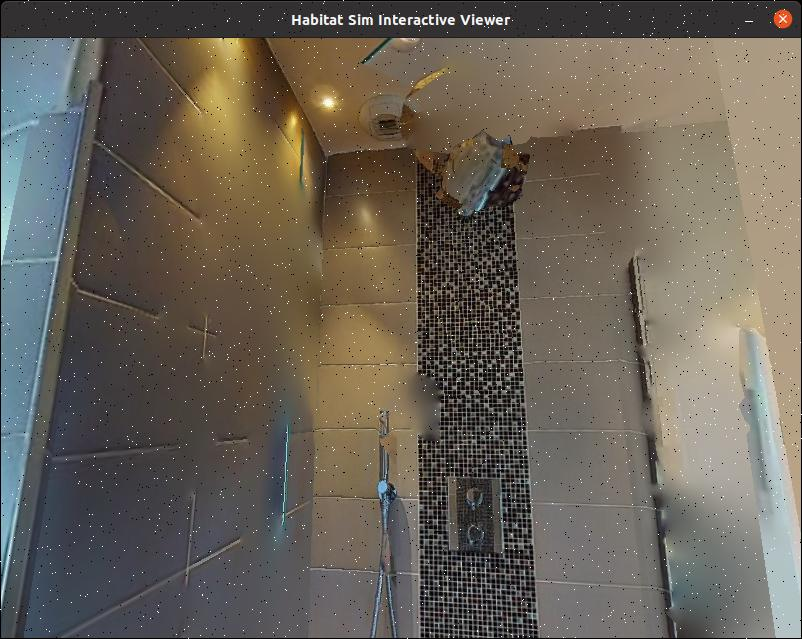shower: (225, 81, 640, 639)
